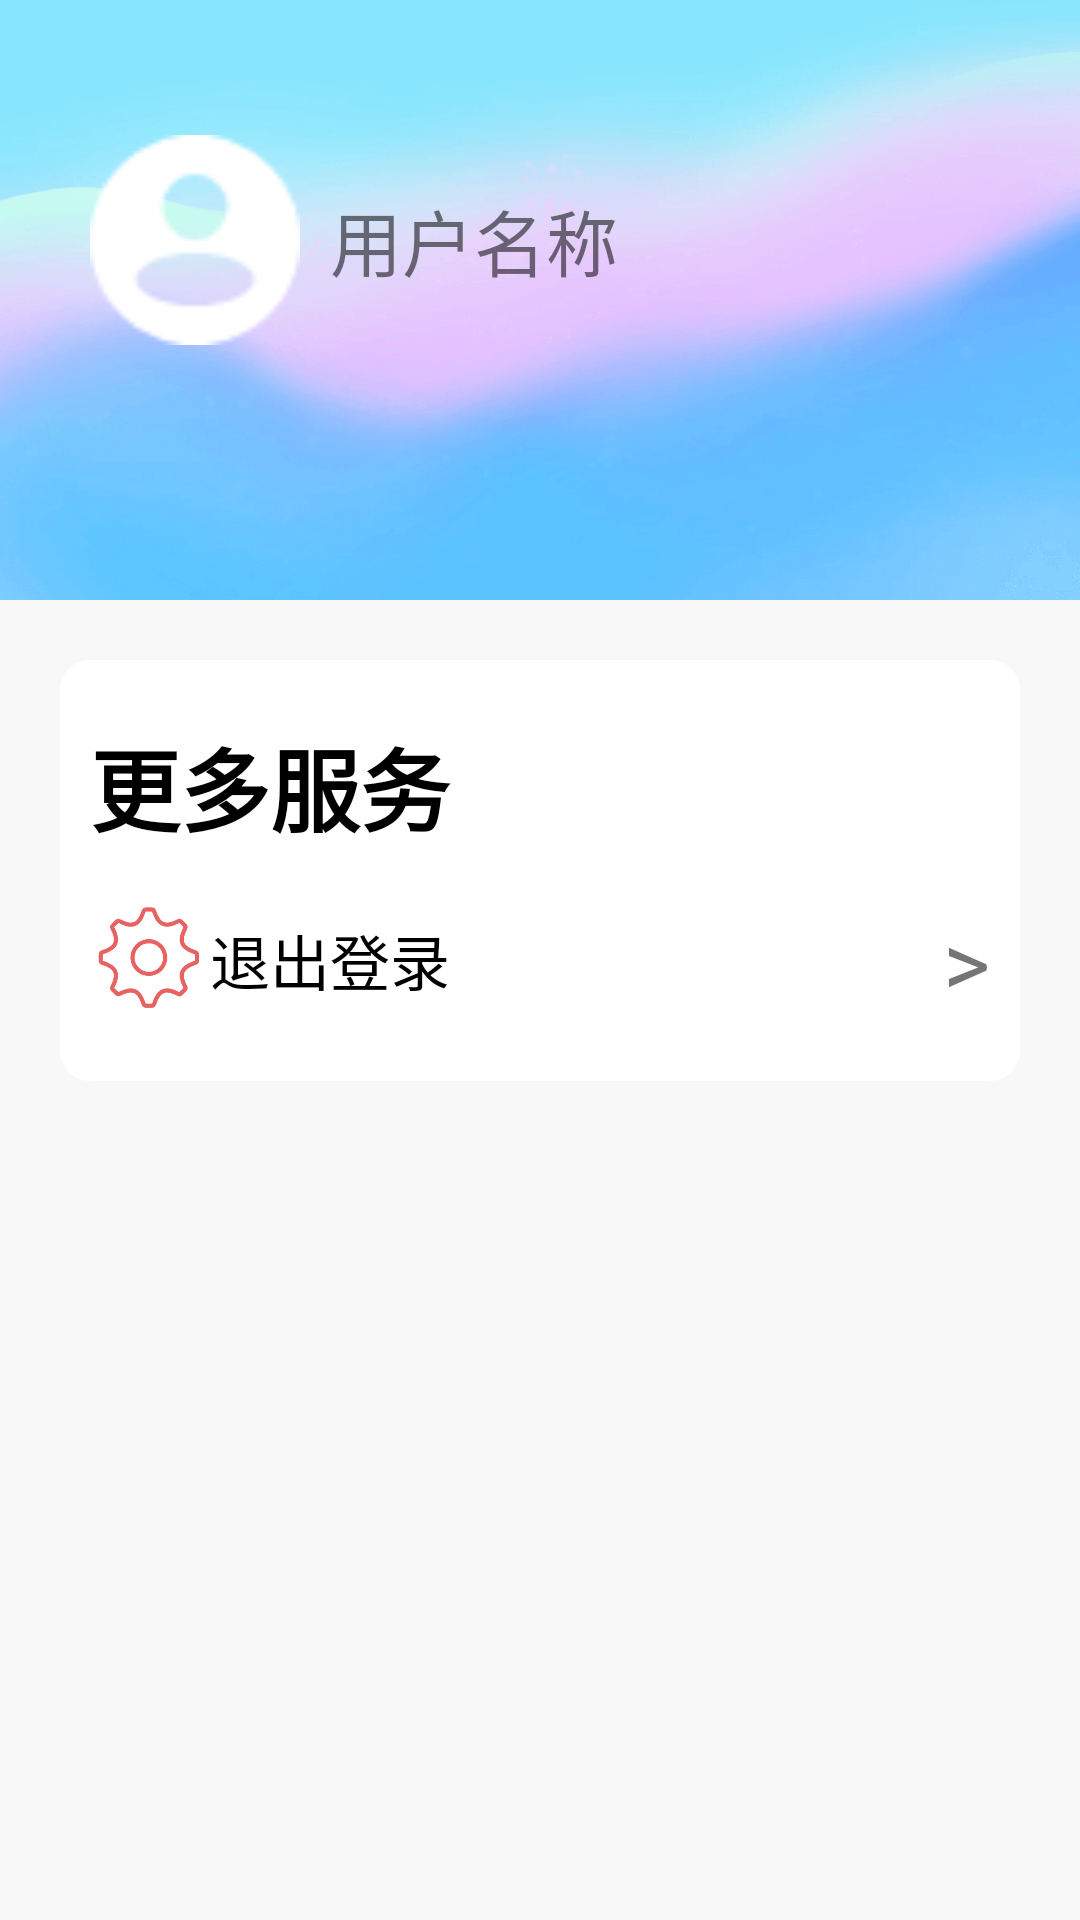

Screen size 1080x1920. Icon name, then its center in pixels as point (x, y):
headimage: point (195, 240)
setting: point (148, 957)
